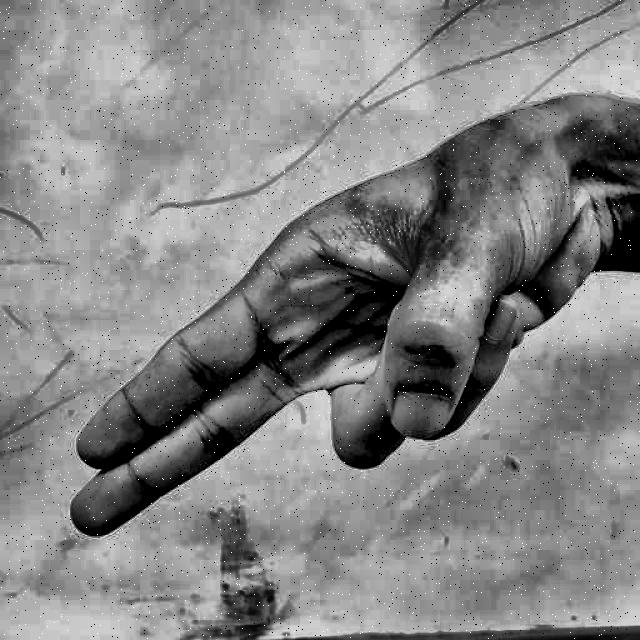Ha: (54, 86, 594, 578)
